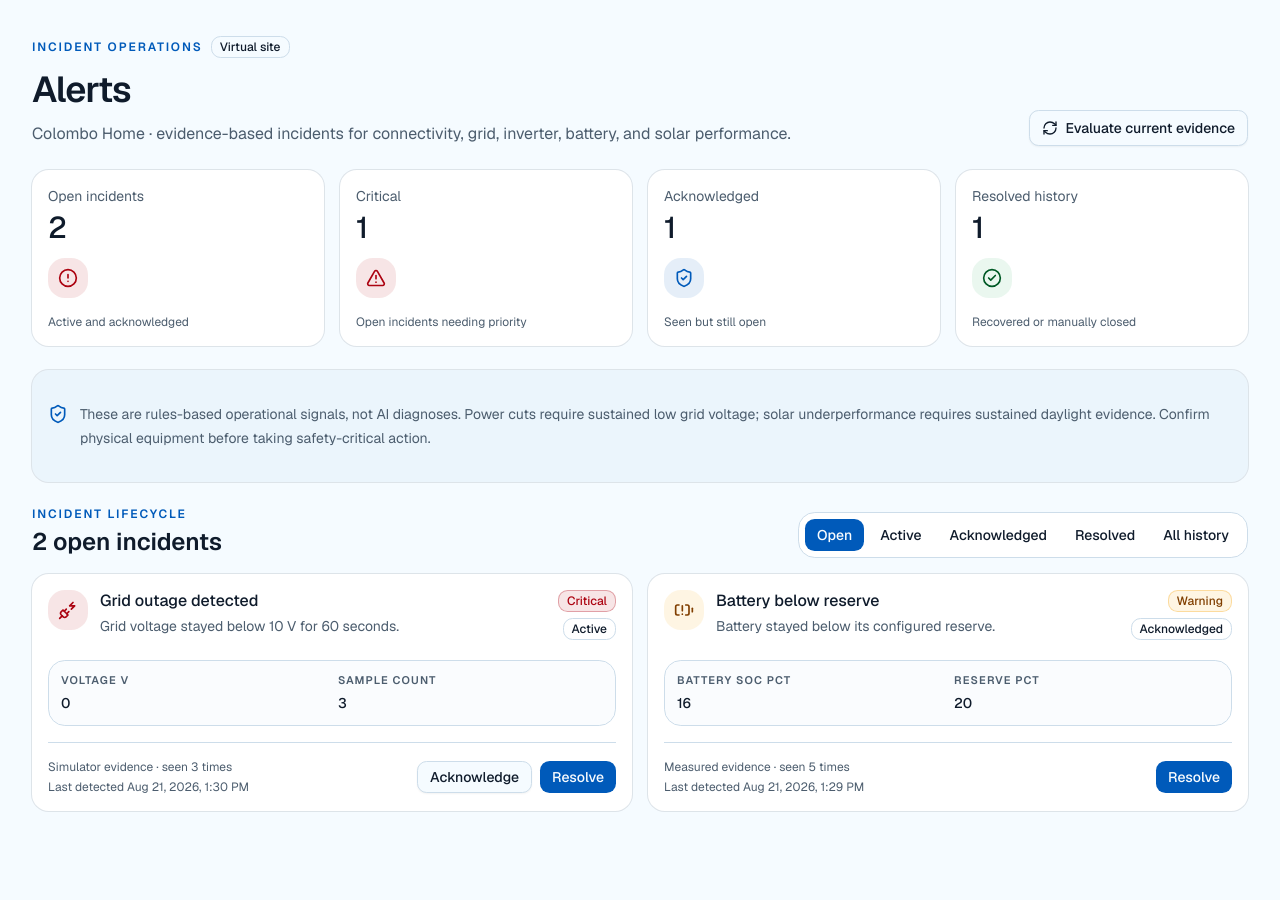
Scenario: AlertsDashboard › filters resolved incident history
Click the button "Resolved": (1105, 535) [1063,519,1147,551]
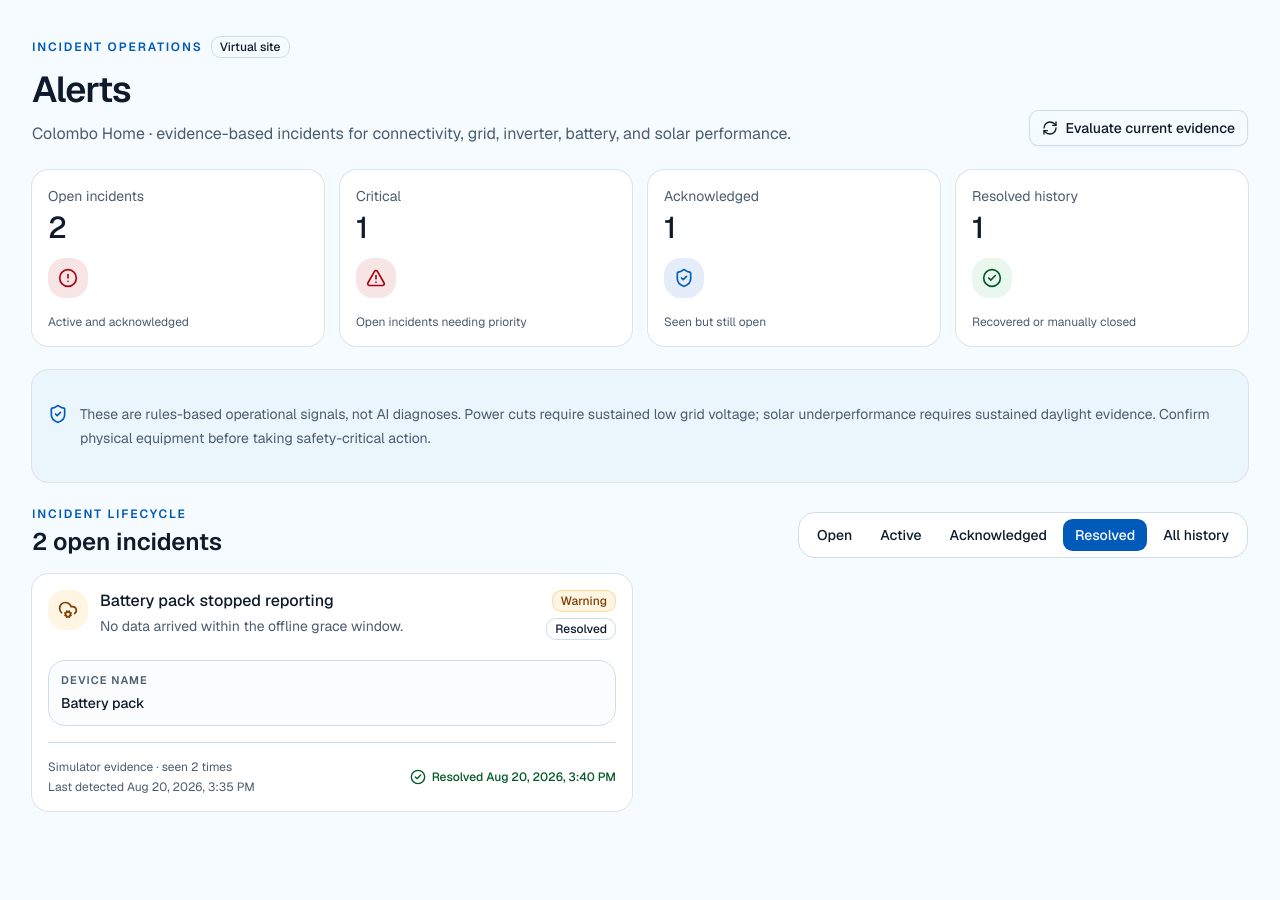
Expected: the heading "Battery pack stopped reporting" is shown, [100,590,334,611]
Expected: the heading "Grid outage detected" is gone
